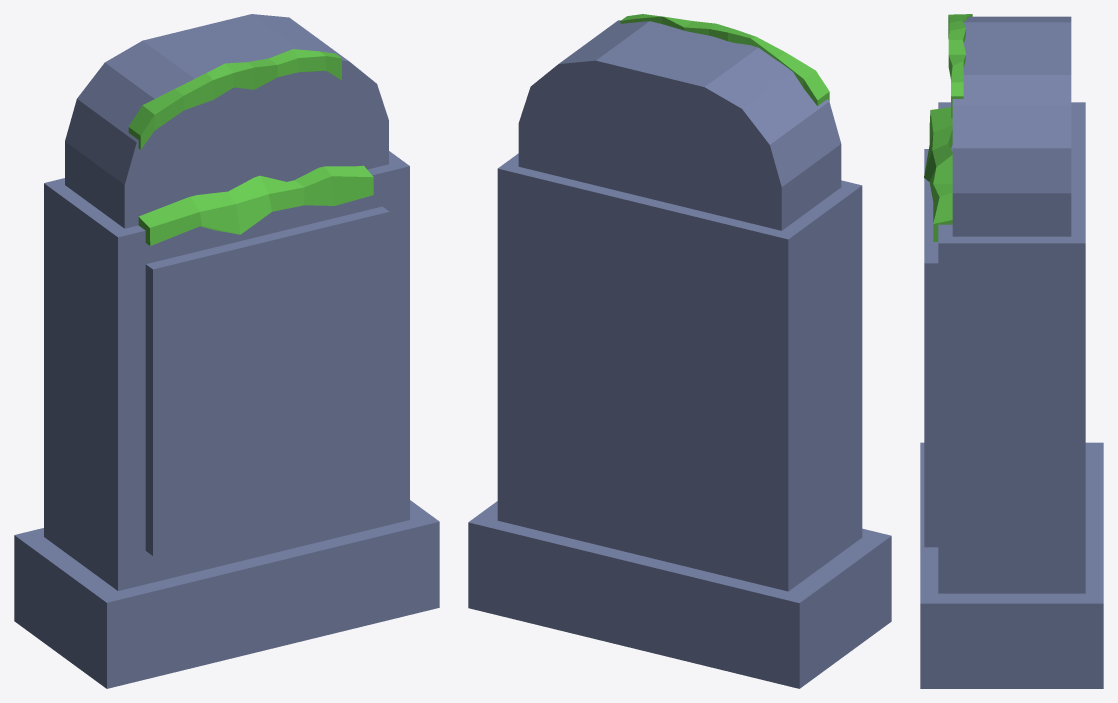
File: Toombstone_02.fbx
3 views of the same model, side by side, from view 1: azimuth 30°, elevation 25°; view 2: azimuth 150°, elevation 25°; view 3: azimuth 270°, elevation 25° (orthographic).
Visible parts, largest first — view 1: Toombstone 2; view 2: Toombstone 2; view 3: Toombstone 2.
Boxes of the visible parts, left/top/right/bottom form: Toombstone 2: left=14, top=14, right=439, bottom=688; Toombstone 2: left=468, top=14, right=891, bottom=688; Toombstone 2: left=920, top=14, right=1103, bottom=688.
Size of the model in its own units: 99.3 by 164 by 47.85.
